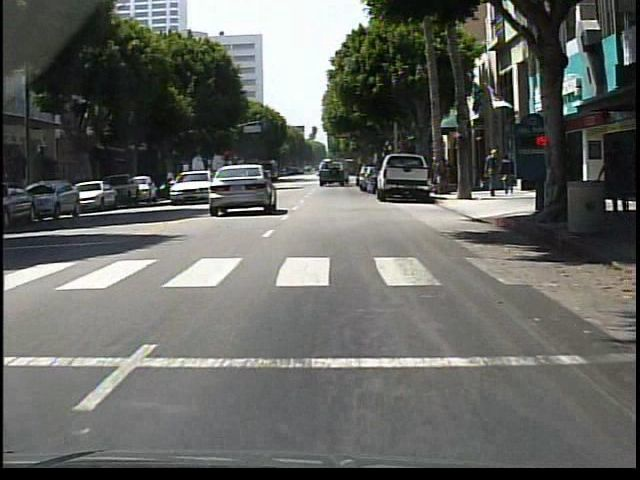person: (601, 143, 630, 215), (484, 148, 502, 198), (246, 161, 258, 203), (501, 153, 512, 196)
